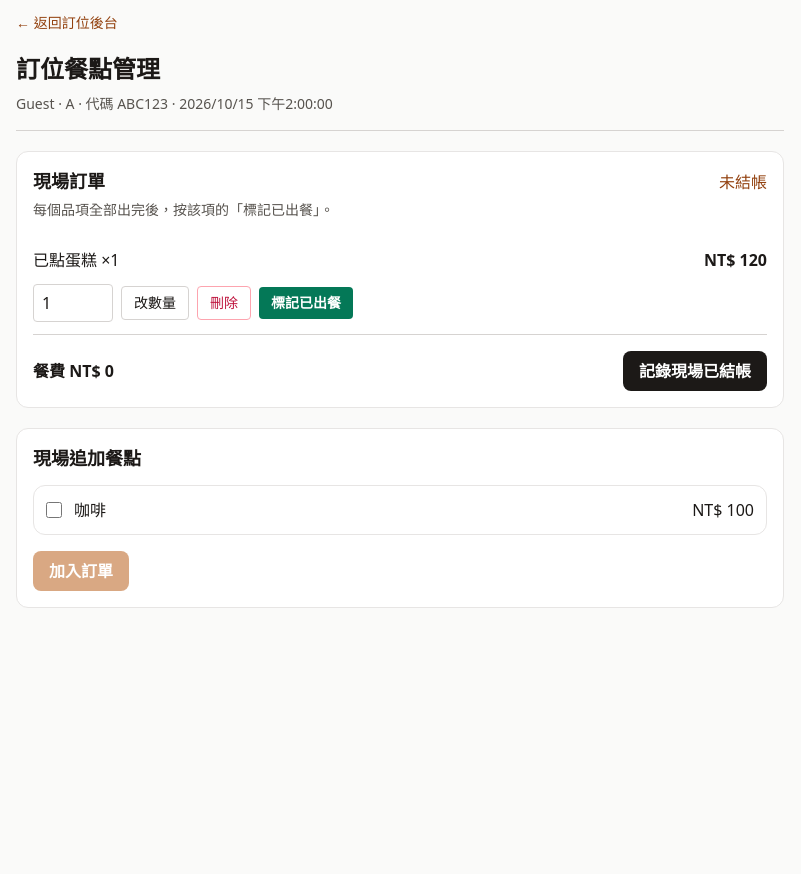
standalone reservation orders — acknowledged add versus refresh (#463) › keeps the existing order when reload has missing
What coordinates should you click on to do the following:
click the checkbox named "選擇咖啡"
I would click on:
 (54, 510)
Its box is [46,502,62,518].
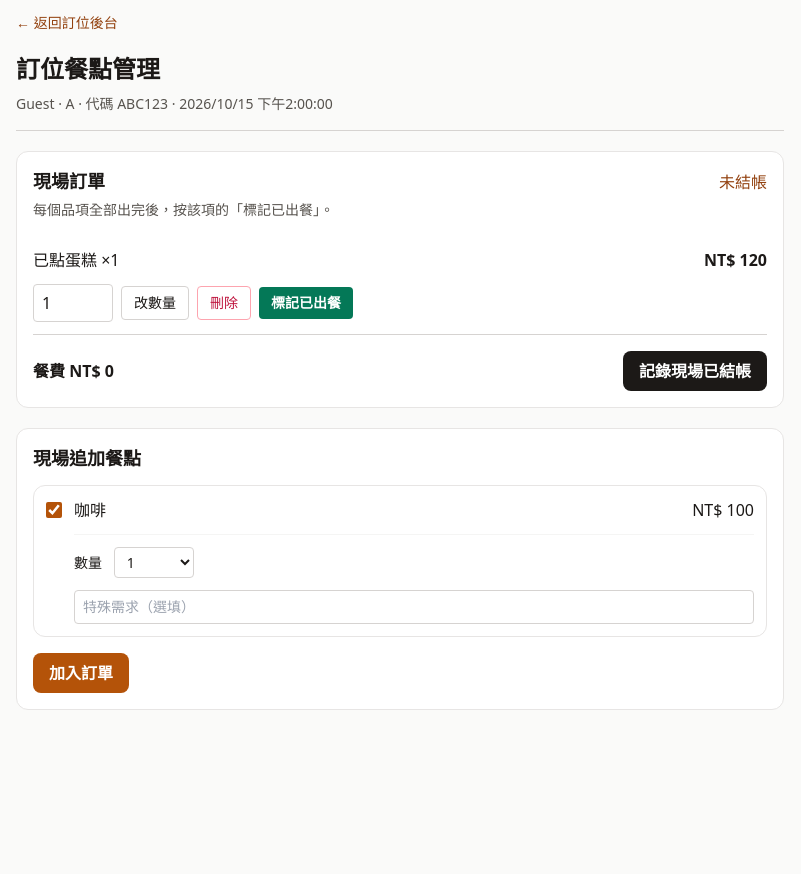
What coordinates should you click on to do the following:
click the button "加入訂單"
I would click on:
 (81, 673)
Its box is [33,653,129,693].
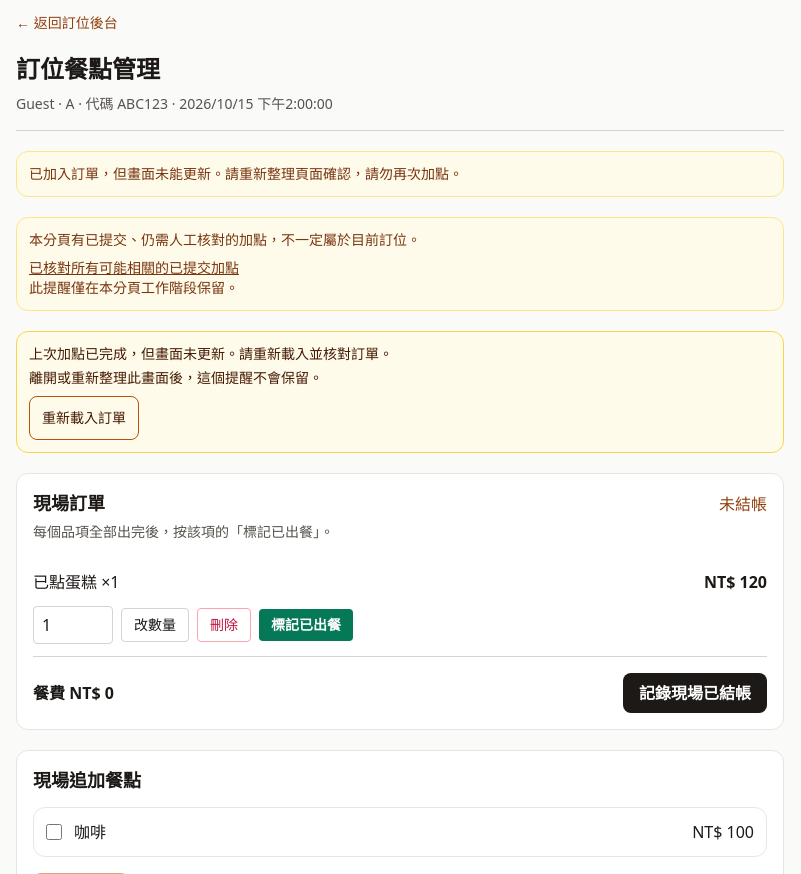
Check: the text "已點蛋糕 ×1" is shown, box [33,570,120,594]
Check: the text "上次加點已完成，但畫面未更新。請重新載入並核對訂單。" is shown, box [29,344,393,363]
